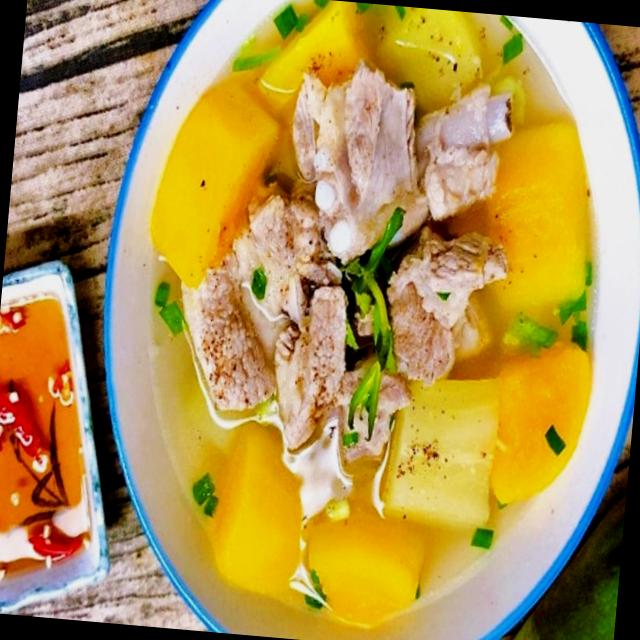canh bi do: (142, 0, 596, 625)
nuoc mam: (0, 299, 90, 577)
